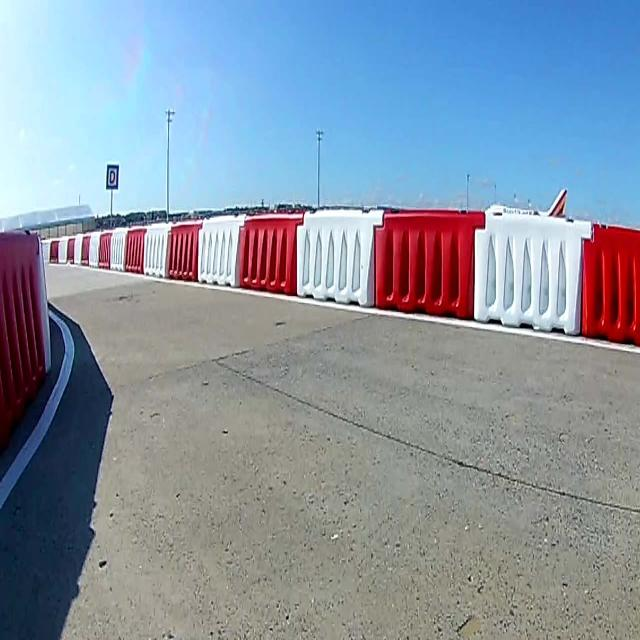durak: (106, 164, 118, 189)
